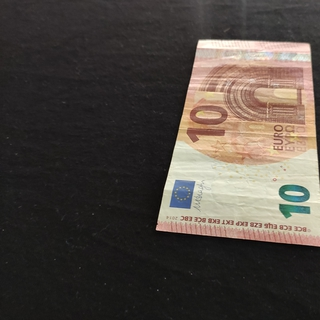10EUROFront: (155, 37, 320, 248)
